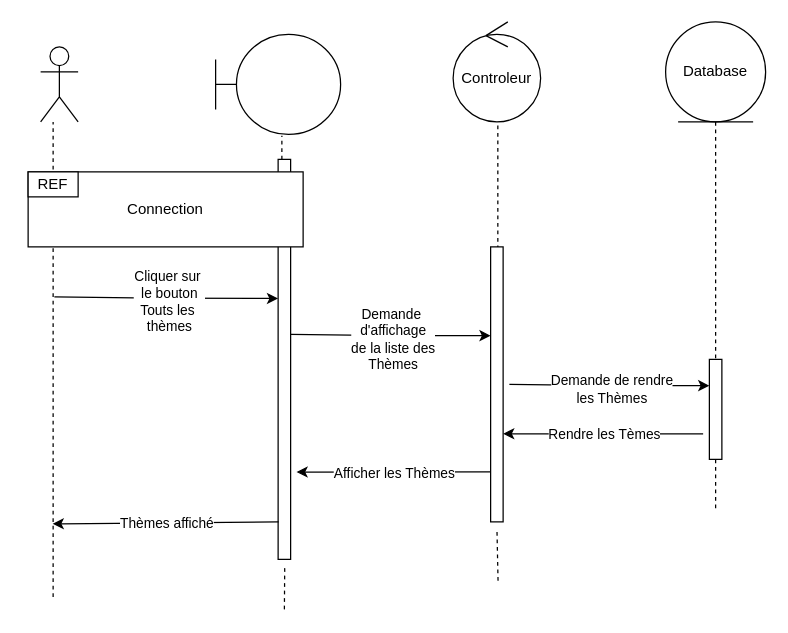
The diagram is 788 pixels wide and 633 high, and some of its shapes have lost their labels. The centre of each missing label's shape, as x and y in pixels:
"Dashboard" belongs at [277,83].
"Enseignant" belongs at [58,84].
